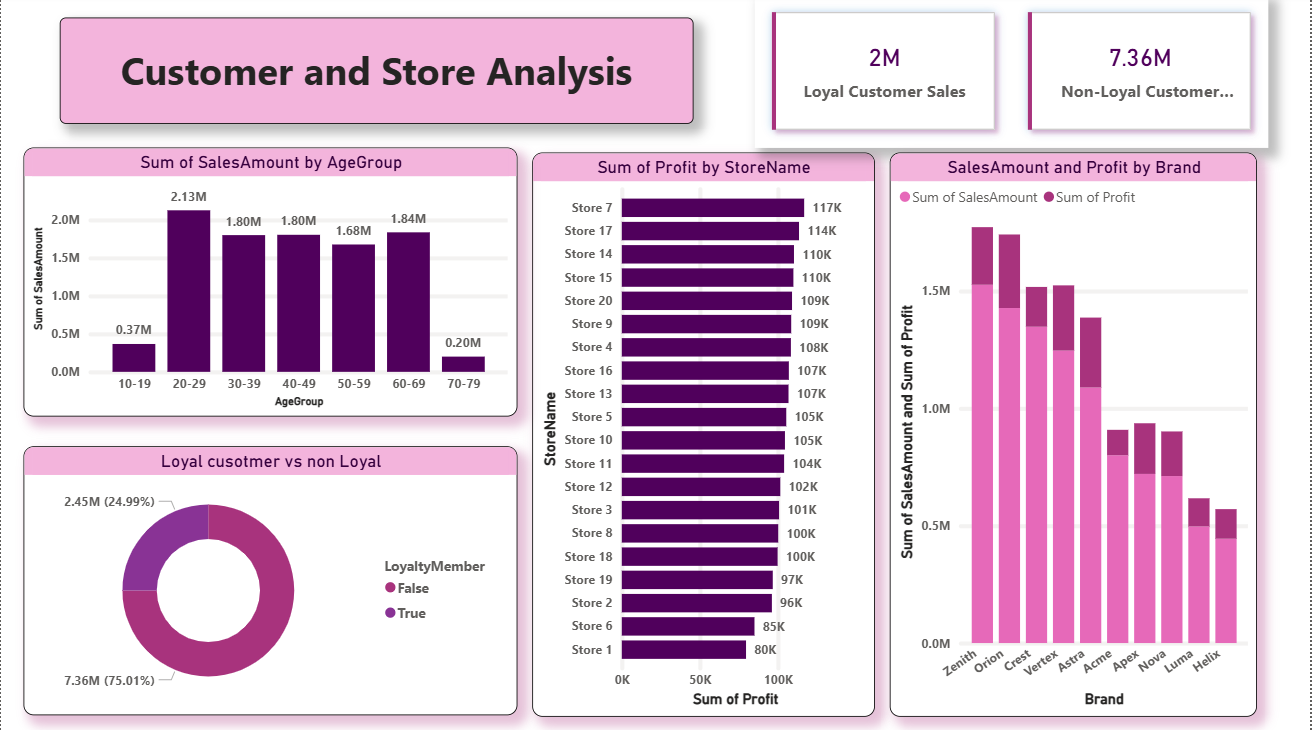

Layout of this report page (visuals, bound fields, positions):
{"tool":"powerbi","page":{"name":"Customer Anlyayis","canvas":[1280,720],"ordinal":2},"visuals":[{"type":"donutChart","title":"Loyal cusotmer vs non Loyal","fields":{"Y":["Sum(FactSales.SalesAmount)"],"Category":["DimCustomer.LoyaltyMember"]},"box":[22,441.9,483,263.5],"z":0},{"type":"barChart","fields":{"Category":["DimStore.StoreName"],"Y":["Sum(FactSales.Profit)"]},"box":[520.1,153.7,334.8,551.6],"z":1000},{"type":"columnChart","fields":{"Category":["DimCustomer.AgeGroup"],"Y":["Sum(FactSales.SalesAmount)"]},"box":[22,149.6,483,263.5],"z":2000},{"type":"cardVisual","fields":{"Data":["measures (2).Loyal Customer Sales","measures (2).Non-Loyal Customer Sales"]},"box":[736.9,0,502.2,149.6],"z":3000},{"type":"textbox","box":[57.6,22,620.2,104.3],"z":4000},{"type":"columnChart","title":" SalesAmount and Profit by Brand","fields":{"Category":["DimProduct.Brand"],"Y":["Sum(FactSales.SalesAmount)","Sum(FactSales.Profit)"]},"box":[870,153.7,359.5,551.6],"z":5000}]}

Visuals, with their boxes in screenshot pixels (x1, y1, x2, y2), scaled from the page's 1280x720 canvas onto the 1312x730 screenshot:
"Loyal cusotmer vs non Loyal" donutChart: detection(23, 448, 518, 715)
barChart - DimStore.StoreName x Sum(FactSales.Profit): detection(533, 156, 876, 715)
columnChart - DimCustomer.AgeGroup x Sum(FactSales.SalesAmount): detection(23, 152, 518, 419)
cardVisual - measures (2).Loyal Customer Sales x measures (2).Non-Loyal Customer Sales: detection(755, 0, 1270, 152)
textbox: detection(59, 22, 695, 128)
" SalesAmount and Profit by Brand" columnChart: detection(892, 156, 1260, 715)
